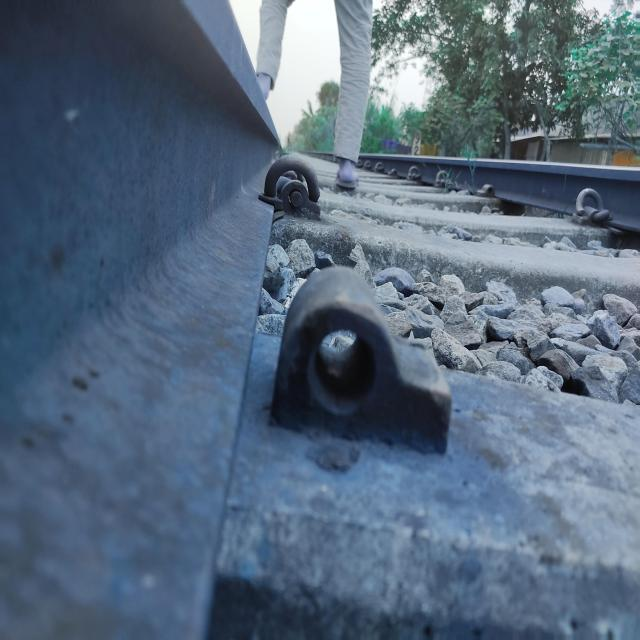Good Fasteners: (263, 139, 329, 221), (566, 189, 615, 234)
Missing Fastener: (277, 271, 471, 488)
